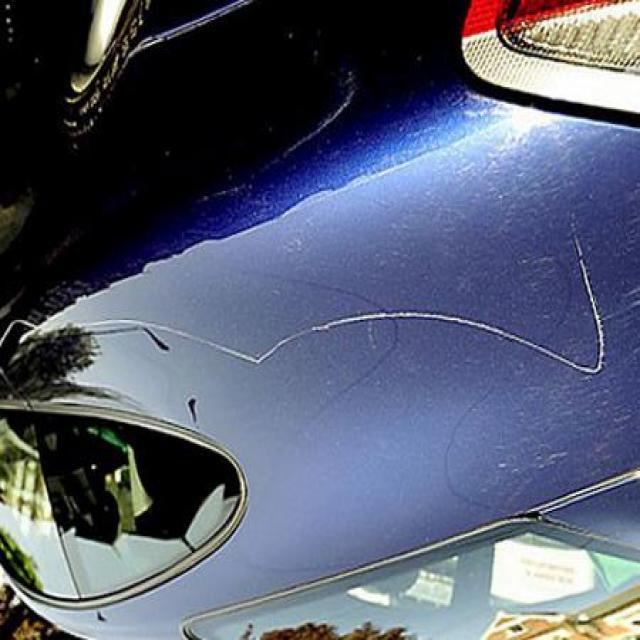scratch: (183, 210, 618, 384)
